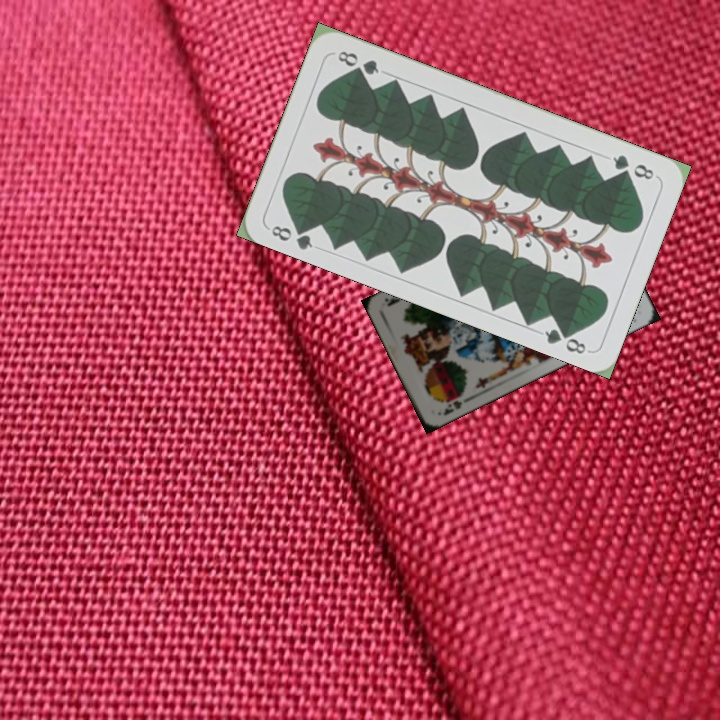G8: (608, 150, 657, 183), (267, 220, 316, 253)
SK: (439, 396, 465, 418)
